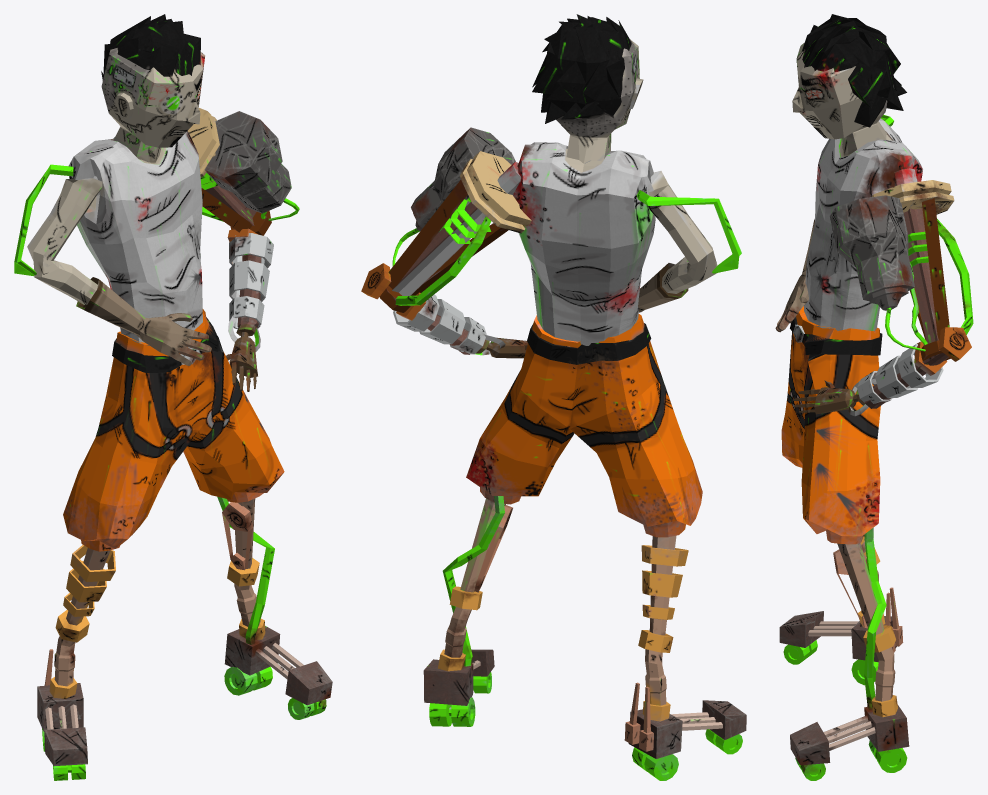
File: CyborgFINALAnimation_000009.obj
3 views of the same model, side by side, from view 1: azimuth 30°, elevation 25°; view 2: azimuth 150°, elevation 25°; view 3: azimuth 270°, elevation 25° (orthographic). The views are drawn at different scales.
Parts seen in each view (by area): view 1: CyborgMesh_Cube.002; view 2: CyborgMesh_Cube.002; view 3: CyborgMesh_Cube.002.
Part boxes in pixels (x1,y1,x2,y2): CyborgMesh_Cube.002: (14,14,332,780); CyborgMesh_Cube.002: (361,14,746,780); CyborgMesh_Cube.002: (775,14,973,780).
Bounding box in the file's own units: 4.38 × 9.62 × 2.48.
